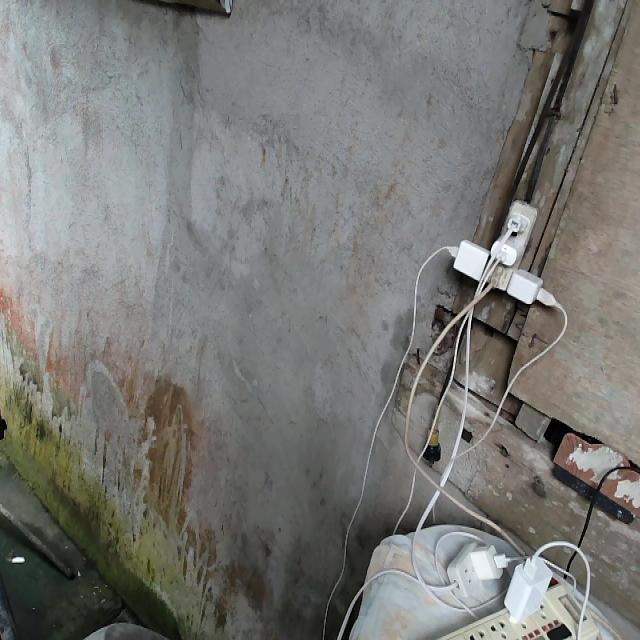-: (447, 198, 558, 310)
